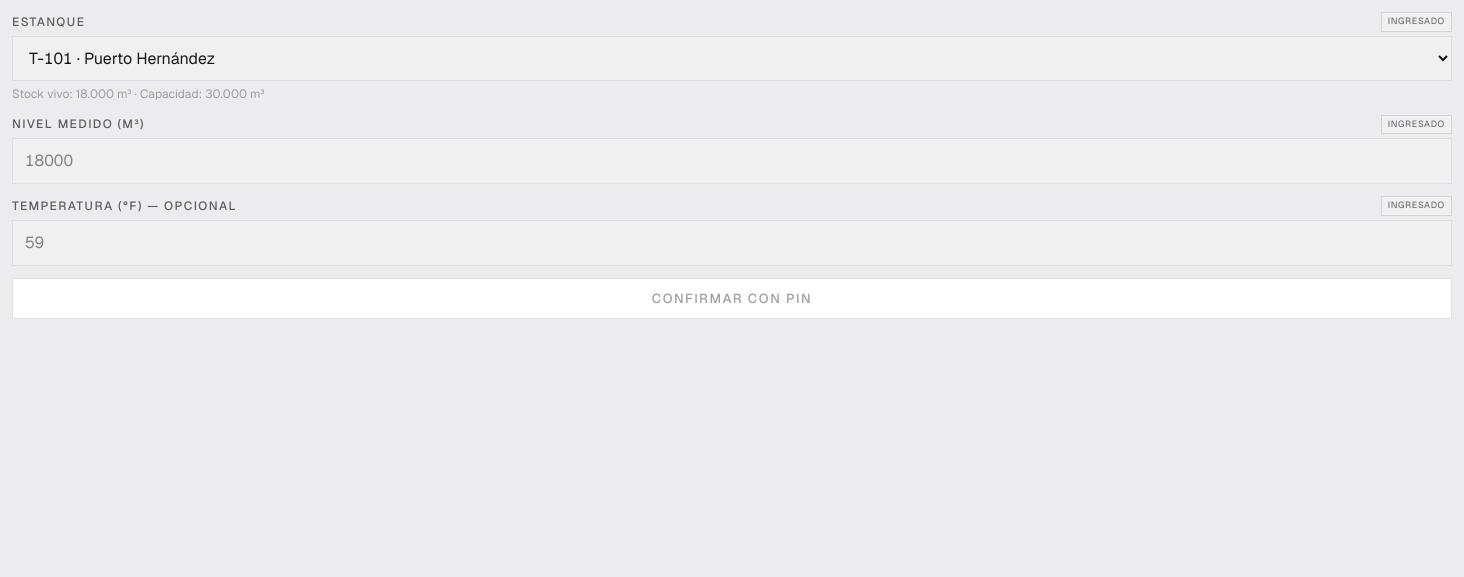
it: TankReadingForm › hard-blocks an impossible level (above capacity) with a clear WHY and disables confirm
The image size is (1464, 577).
# T-101 capacity is 30 000 m³
Type "40000" into the field labelled "Nivel medido (m³)" at point(732, 161), box 12,138 -> 1452,184
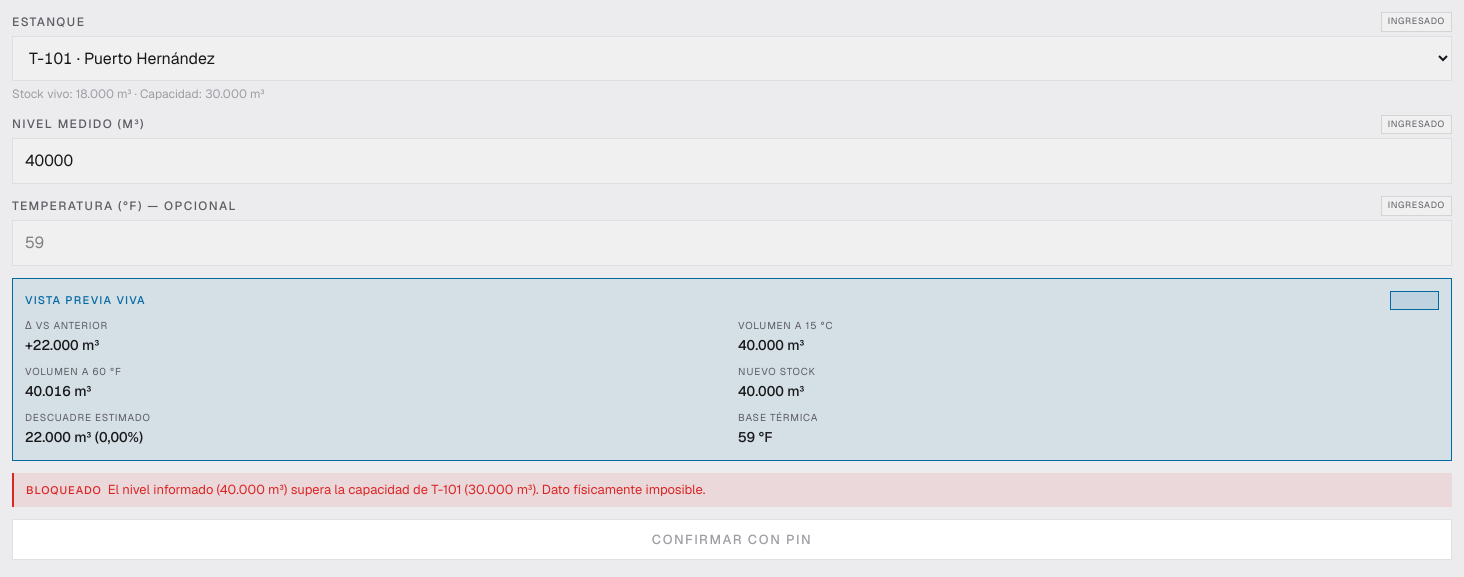
Expected: the button "Confirmar con PIN" is disabled, 12,519 -> 1452,560
Expected: the text "físicamente imposible" is shown, 108,481 -> 705,498
